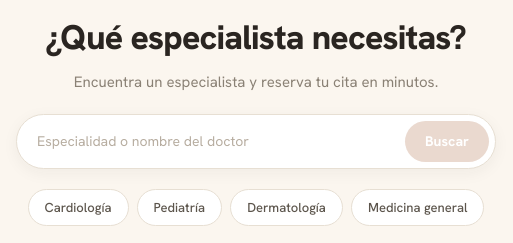
it: SpecialtySearch › disables the submit button until a query is typed
Check: the button "Buscar" is disabled, box [405, 120, 489, 162]
Type "cardiología" into the field named "Buscar especialista" at (210, 141), box [23, 123, 397, 159]
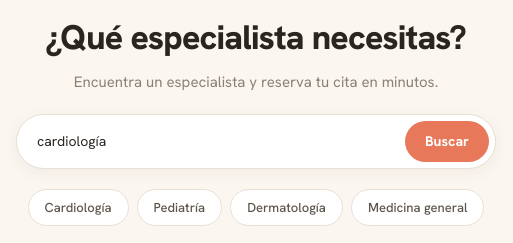
Check: the button "Buscar" is enabled, box [405, 120, 489, 162]
